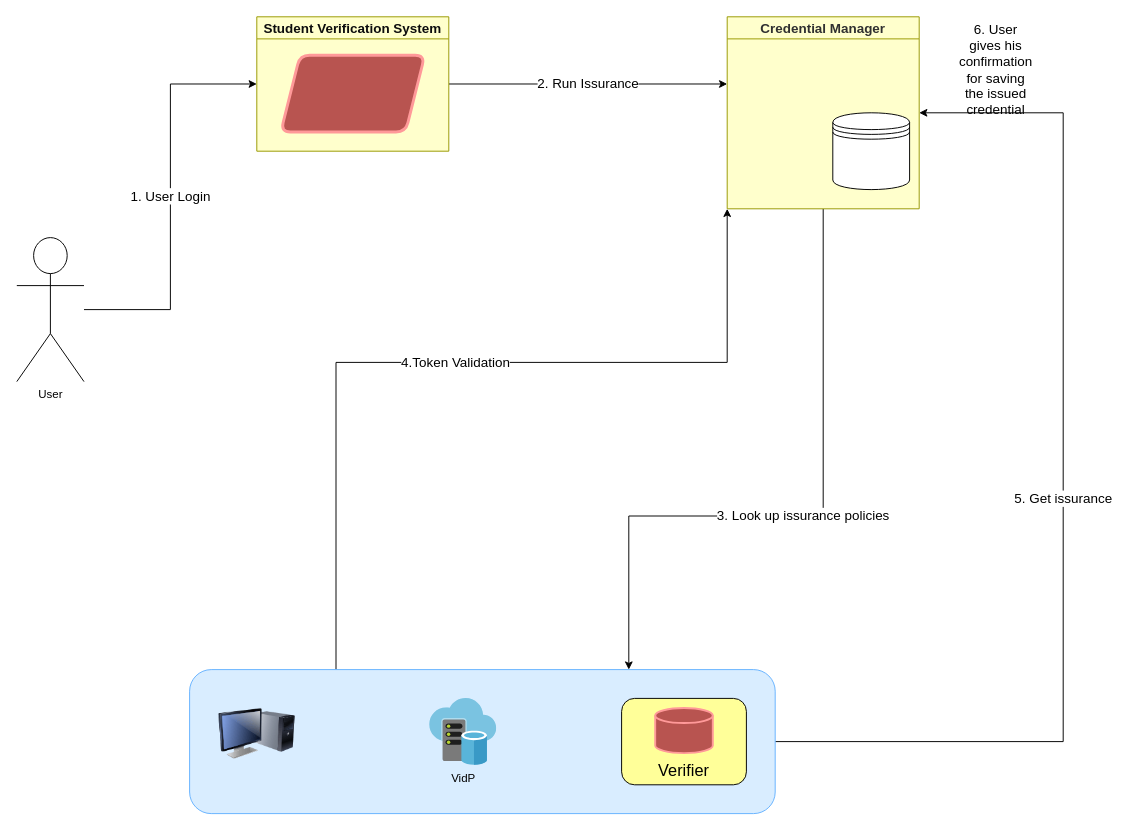
Image size: 1129x830. Some labels were removed from this diagram. Each missing label, with the box of its shape:
Get Credential: (279, 53, 426, 133)
PESTO Client: (218, 695, 295, 772)
Policies: (654, 707, 713, 754)
